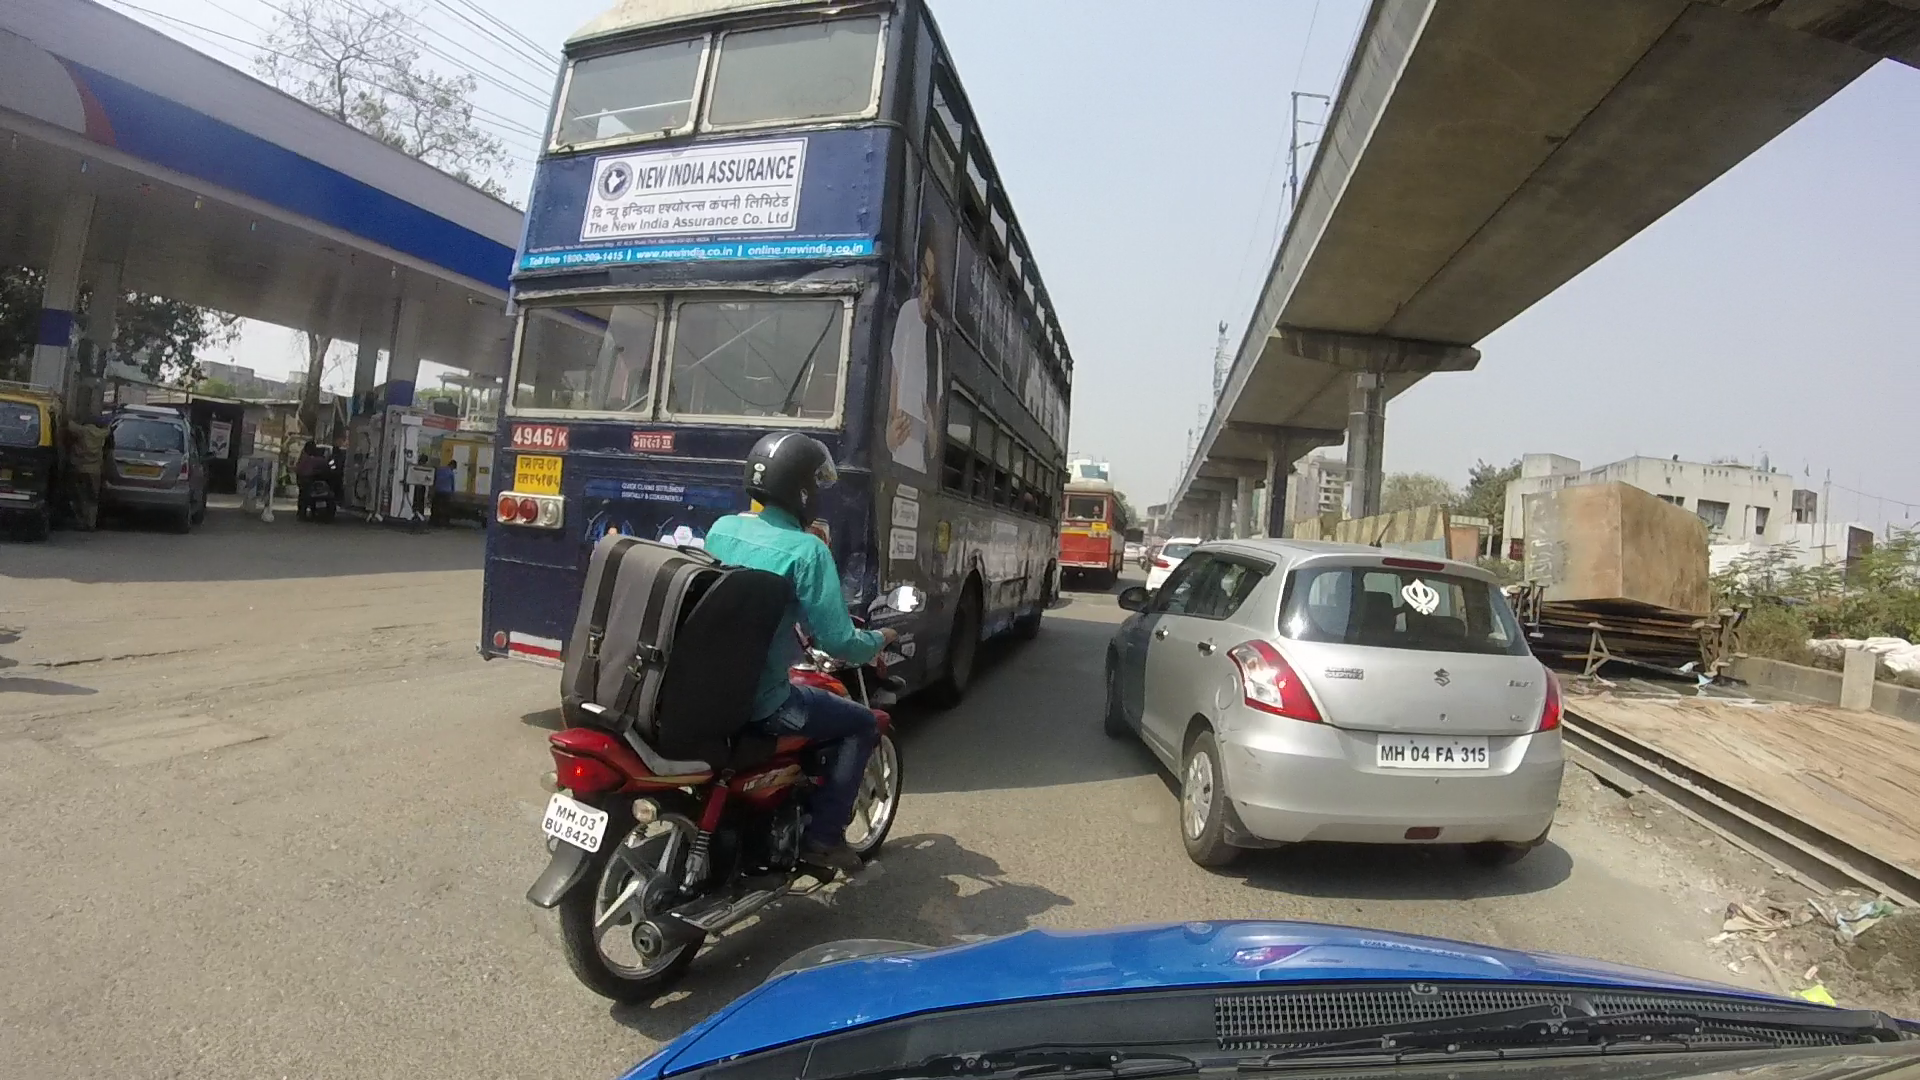bike/scooter: (555, 415, 913, 1004)
bus: (513, 7, 1072, 709), (1052, 469, 1120, 580)
car: (1113, 542, 1572, 857), (90, 401, 196, 527)
